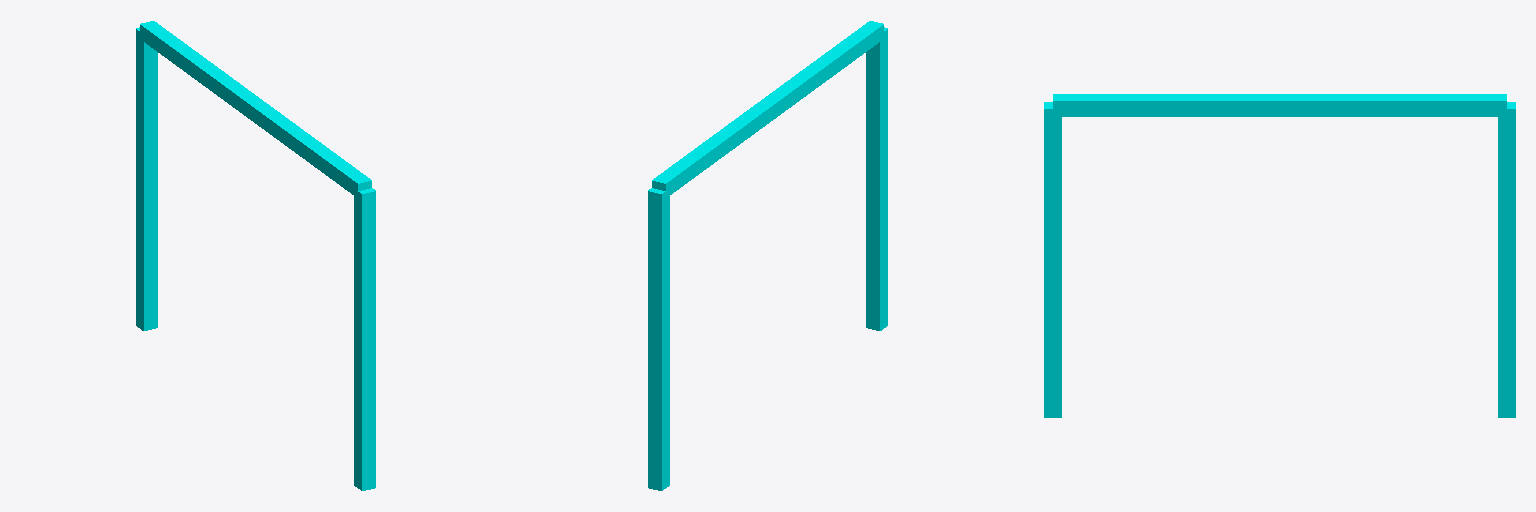
URDF robot description (structure):
<robot name="structure">
    <origin xyz="0 0 0" rpy="0 0 0"/>
    <static>true</static>

    <link name="main_base">
        <inertial>
            <origin xyz="0 0 3" rpy="0 0 0"/>
            <mass value="1"/>
            <inertia ixx="100"  ixy="0"  ixz="0" iyy="100" iyz="0" izz="100" />
          </inertial>
       
          <visual>
            <origin xyz="0 0 3" rpy="0 0 0" />
            <geometry>
              <box size="0.15 4 0.15" />
            </geometry>
            <material name="Cyan">
              <color rgba="0 1.0 1.0 1.0"/>
            </material>
          </visual>
       
          <collision>
            <origin xyz="0 0 3" rpy="0 0 0"/>
            <geometry>
              <cylinder radius="1" length="3"/>
            </geometry>
          </collision>
    </link>

    <link name="side_one">
        <inertial>
            <origin xyz="0 -2 1.5" rpy="0 0 0"/>
            <mass value="1"/>
            <inertia ixx="100"  ixy="0"  ixz="0" iyy="100" iyz="0" izz="100" />
          </inertial>
       
          <visual>
            <origin xyz="0 -2 1.5" rpy="0 0 0" />
            <geometry>
              <box size="0.15 0.15 3" />
            </geometry>
            <material name="Cyan">
              <color rgba="0 1.0 1.0 1.0"/>
            </material>
          </visual>
       
          <collision>
            <origin xyz="0 -2 1.5" rpy="0 0 0"/>
            <geometry>
              <cylinder radius="1" length="3"/>
            </geometry>
          </collision>
    </link>

    <link name="side_two">
        <inertial>
            <origin xyz="0 2 1.5" rpy="0 0 0"/>
            <mass value="1"/>
            <inertia ixx="100"  ixy="0"  ixz="0" iyy="100" iyz="0" izz="100" />
          </inertial>
       
          <visual>
            <origin xyz="0 2 1.5" rpy="0 0 0" />
            <geometry>
              <box size="0.15 0.15 3" />
            </geometry>
            <material name="Cyan">
              <color rgba="0 1.0 1.0 1.0"/>
            </material>
          </visual>
       
          <collision>
            <origin xyz="0 2 1.5" rpy="0 0 0"/>
            <geometry>
              <cylinder radius="1" length="3"/>
            </geometry>
          </collision>
    </link>

    <link name="laser1_link">
        <gazebo reference="sensor_laser">
        <sensor name="hls_lfcd_lds1" type="ray">
            <always_on>true</always_on>
            <visualize>true</visualize>
            <pose>0 -2 3 0 0 0</pose>
            <update_rate>5</update_rate>
            <ray>
                <scan>
                    <vertical>
                        <samples>180</samples>
                        <resolution>1.000000</resolution>
                        <min_angle>0.000000</min_angle>
                        <max_angle>1.57</max_angle>
                    </vertical>
                </scan>
                <range>
                    <min>0.120000</min>
                    <max>5</max>
                    <resolution>0.015000</resolution>
                </range>
                <noise>
                    <type>gaussian</type>
                    <mean>0.0</mean>
                    <stddev>0.01</stddev>
                </noise>
            </ray>
            <plugin name="turtlebot3_laserscan" filename="libgazebo_ros_ray_sensor.so">
                <ros>
                    <!-- <namespace>/tb3</namespace> -->
                    <remapping>~/out:=scan1</remapping>
                </ros>
                <output_type>sensor_msgs/LaserScan</output_type>
                <frame_name>base_scan1</frame_name>
            </plugin>
        </sensor>
        </gazebo>
    </link>

    <link name="laser2_link">
        <sensor name="hls_lfcd_lds2" type="ray">
            <always_on>true</always_on>
            <visualize>true</visualize>
            <pose>0 2 3 0 0 0</pose>
            <update_rate>5</update_rate>
            <ray>
                <scan>
                    <vertical>
                        <samples>180</samples>
                        <resolution>1.000000</resolution>
                        <min_angle>0.000000</min_angle>
                        <max_angle>1.57</max_angle>
                    </vertical>
                </scan>
                <range>
                    <min>0.120000</min>
                    <max>5</max>
                    <resolution>0.015000</resolution>
                </range>
                <noise>
                    <type>gaussian</type>
                    <mean>0.0</mean>
                    <stddev>0.01</stddev>
                </noise>
            </ray>
            <plugin name="turtlebot3_laserscan" filename="libgazebo_ros_ray_sensor.so">
                <ros>
                    <!-- <namespace>/tb3</namespace> -->
                    <remapping>~/out:=scan2</remapping>
                </ros>
                <output_type>sensor_msgs/LaserScan</output_type>
                <frame_name>base_scan2</frame_name>
            </plugin>
        </sensor>
    </link>

    <joint name="boxconnect1" type="fixed">
        <origin xyz="0 0 0" />
        <parent link="main_base"/>
        <child link="laser1_link"/>
      </joint>

      <joint name="boxconnect2" type="fixed">
        <origin xyz="0 0 0" />
        <parent link="main_base"/>
        <child link="laser2_link"/>
      </joint>

      <joint name="sideconn1" type="fixed">
        <origin xyz="0 0 0" />
        <parent link="main_base"/>
        <child link="side_one"/>
      </joint>

      <joint name="sideconn2" type="fixed">
        <origin xyz="0 0 0" />
        <parent link="main_base"/>
        <child link="side_two"/>
      </joint>

</robot>

--- Render facts (derived) ---
Views: 3 orthographic renders of the robot side by side, from view 1: azimuth 30°, elevation 25°; view 2: azimuth 150°, elevation 25°; view 3: azimuth 270°, elevation 25°.
Robot: structure — 5 links, 4 joints (4 fixed); root link main_base; default pose: every joint at zero.
Visible links, largest first — view 1: side_one, main_base, side_two; view 2: side_two, side_one, main_base; view 3: main_base, side_two, side_one.
Boxes of the visible links, x1,y1,x2,y2 form: side_one: (354,188,375,490); main_base: (140,21,371,197); side_two: (136,27,157,330); side_two: (648,188,669,490); side_one: (866,27,887,330); main_base: (652,21,883,195); main_base: (1053,94,1506,116); side_two: (1498,102,1515,417); side_one: (1044,102,1061,417).
Size in the robot's own frame: 0.15 by 4.15 by 3.08 metres.
Geometry: primitives only (box / cylinder / sphere), no mesh files.
